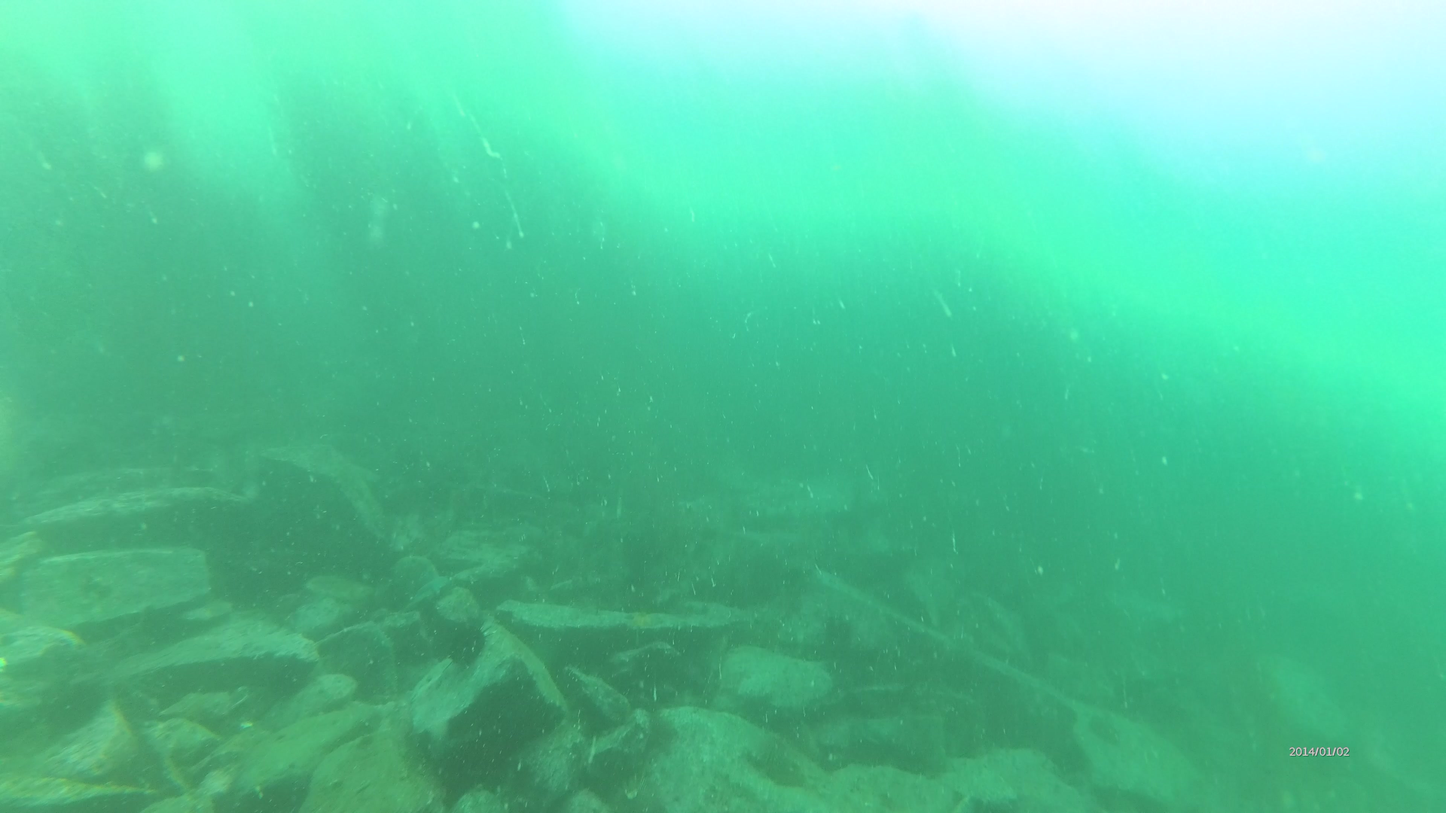holothurian: (621, 606, 660, 634)
starfish: (441, 621, 499, 673), (820, 609, 861, 649)
